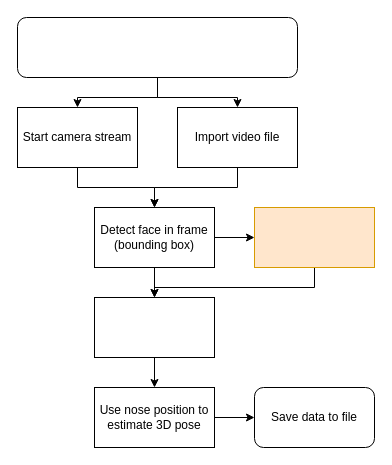
This 392x465 diagram has some shape labels left out. The shapes that lost their labels are listed below. From the top down, each one's centre as x and y in pixels, then its label:
At pixel 157 47: "Launch Program".
At pixel 314 237: "Crop image size to face bbox".
At pixel 154 327: "Detect facial landmarks (2D)".
